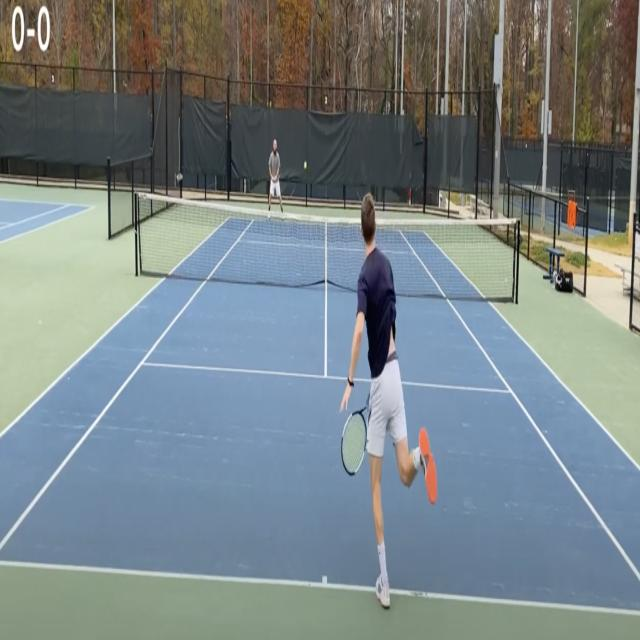ball: (304, 160, 307, 170)
